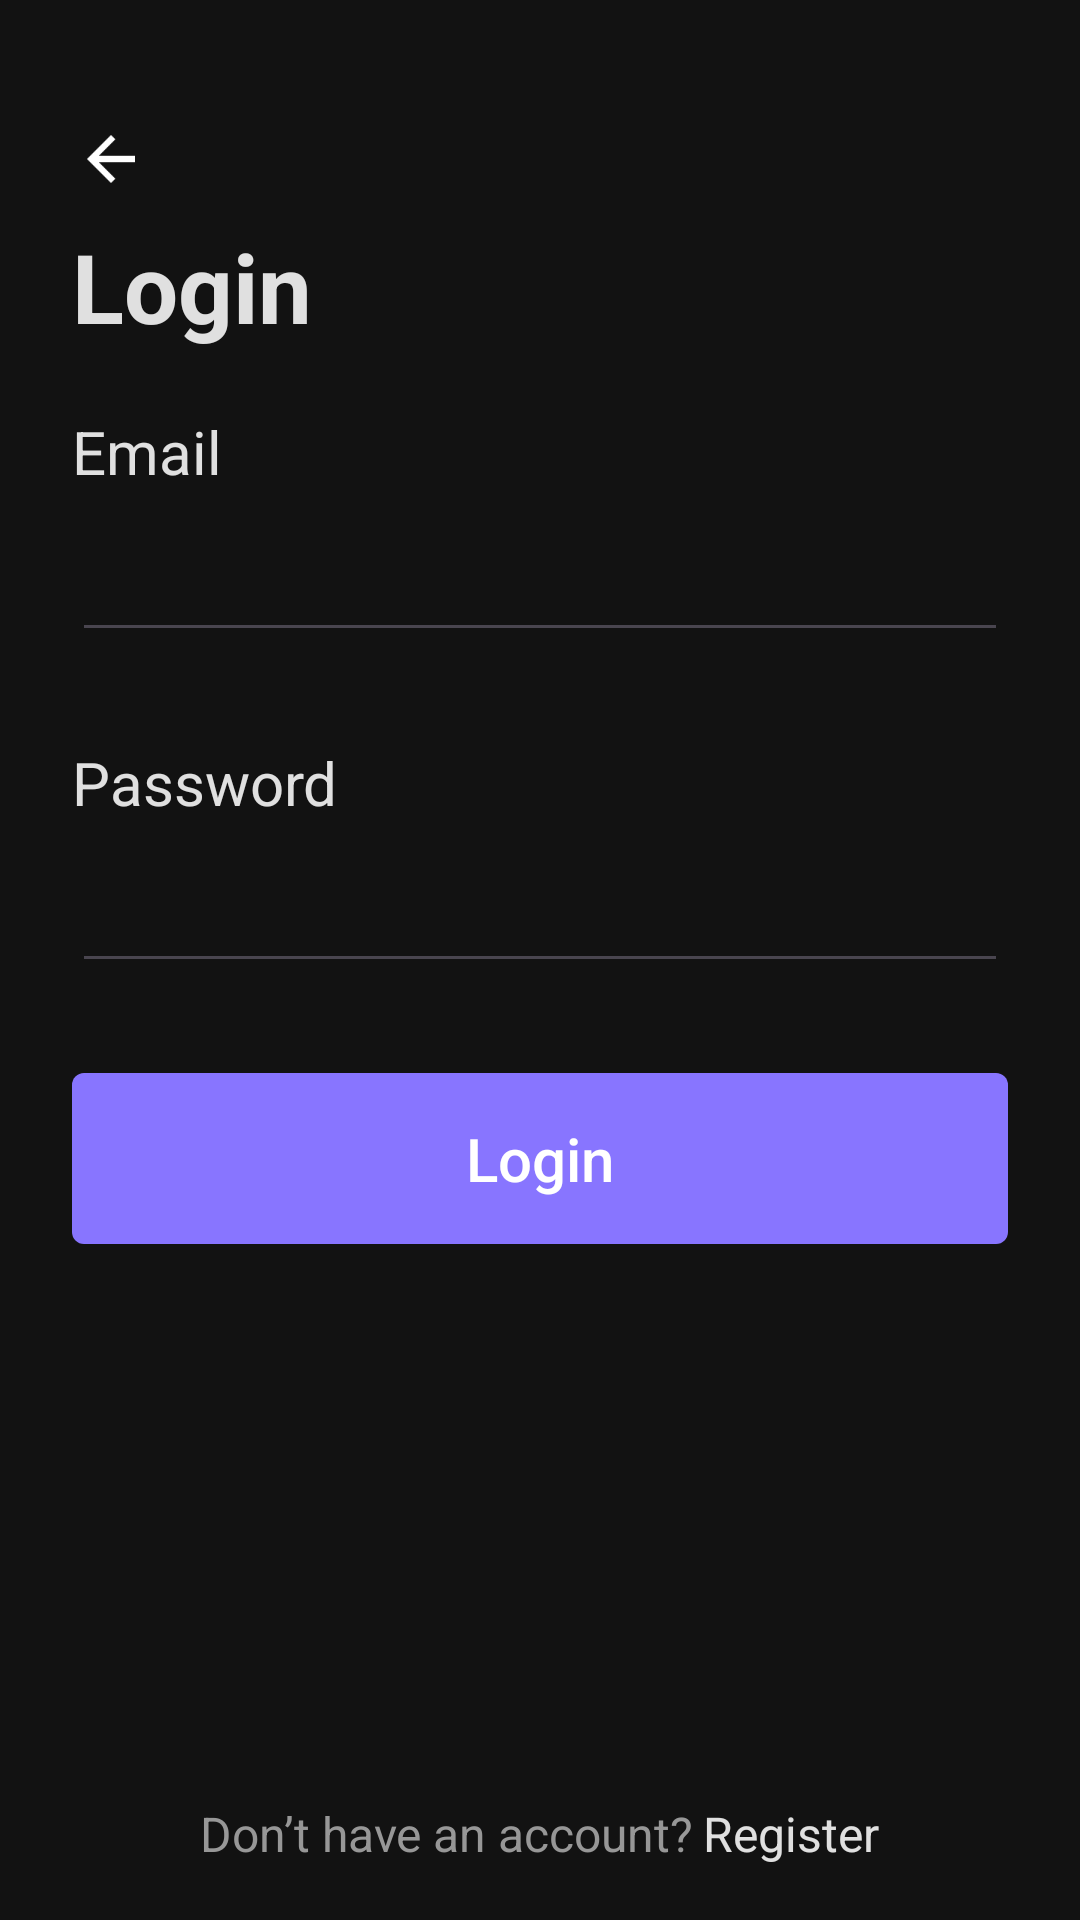

Named icons in this screenshot (1080×1920) and their centers, point (x, y):
back: point (111, 159)
